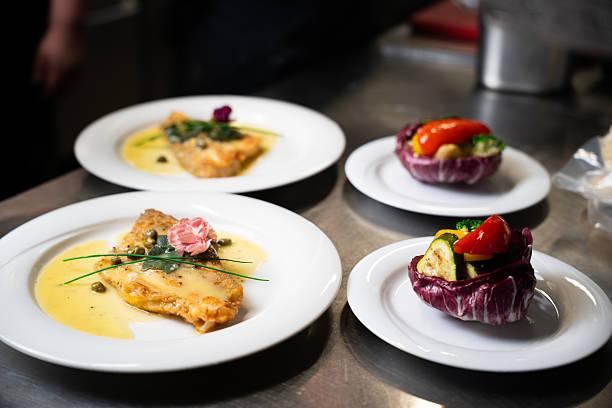Braised Crucian Carp: (0, 189, 344, 383), (345, 214, 607, 376), (74, 91, 346, 199), (345, 118, 553, 221)
